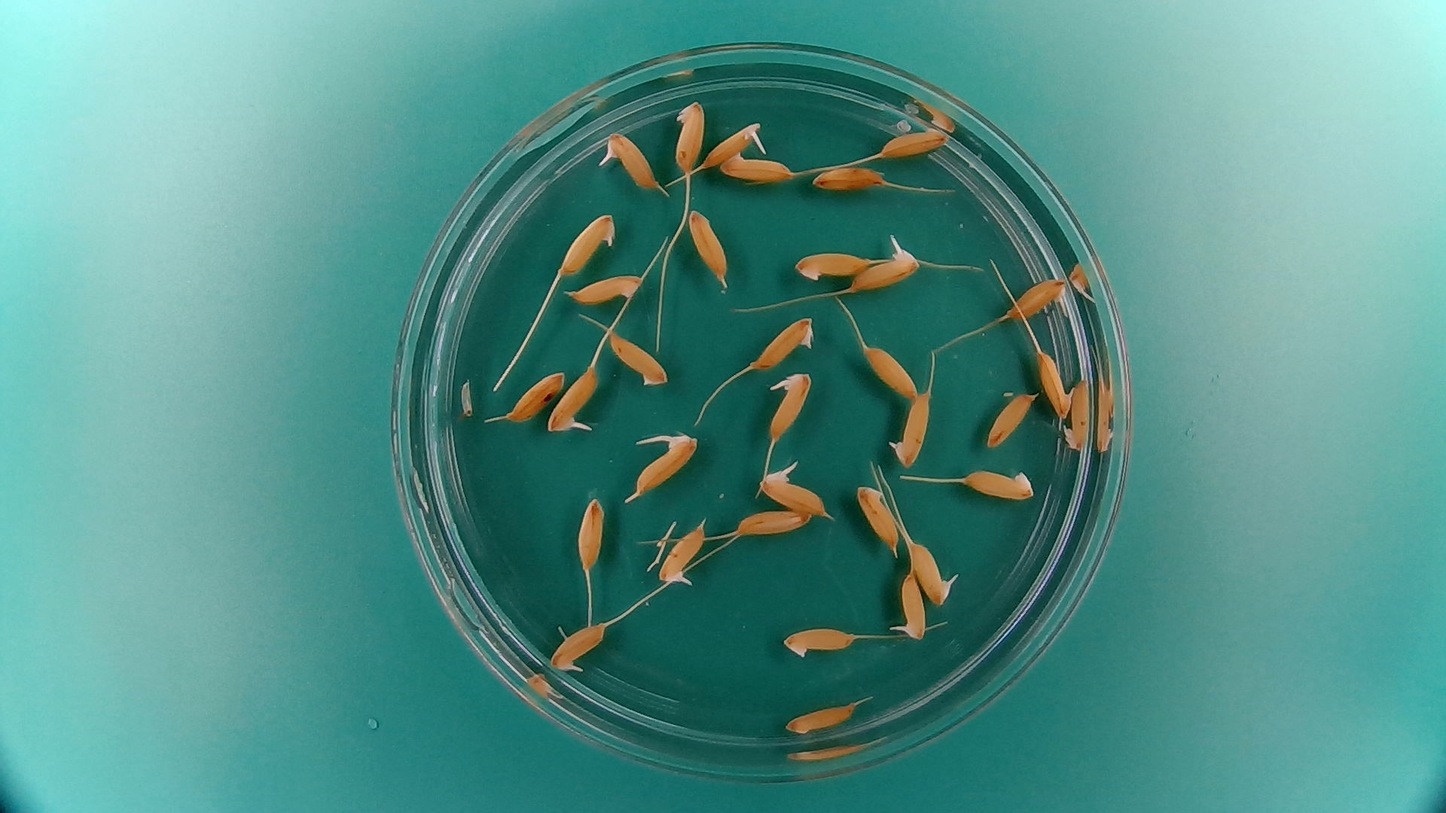no: (604, 330, 672, 388), (750, 314, 816, 370), (507, 365, 568, 425), (855, 480, 903, 554), (685, 209, 731, 286), (862, 343, 920, 398), (984, 389, 1037, 449), (875, 120, 953, 160), (565, 269, 642, 306), (792, 247, 871, 283), (781, 623, 857, 659), (672, 96, 706, 174), (785, 700, 858, 735), (718, 151, 794, 184), (810, 161, 885, 194), (1065, 371, 1093, 455), (735, 507, 810, 537), (969, 470, 1036, 502), (577, 496, 606, 568)
yes: (631, 432, 695, 498), (556, 209, 618, 274), (545, 364, 599, 436), (888, 389, 934, 470), (765, 368, 813, 443), (998, 275, 1071, 324), (657, 518, 708, 586), (604, 129, 659, 191), (761, 472, 830, 521), (910, 537, 958, 607), (548, 618, 608, 671), (700, 120, 762, 171), (848, 246, 916, 292), (1034, 347, 1073, 425), (895, 570, 929, 642)
